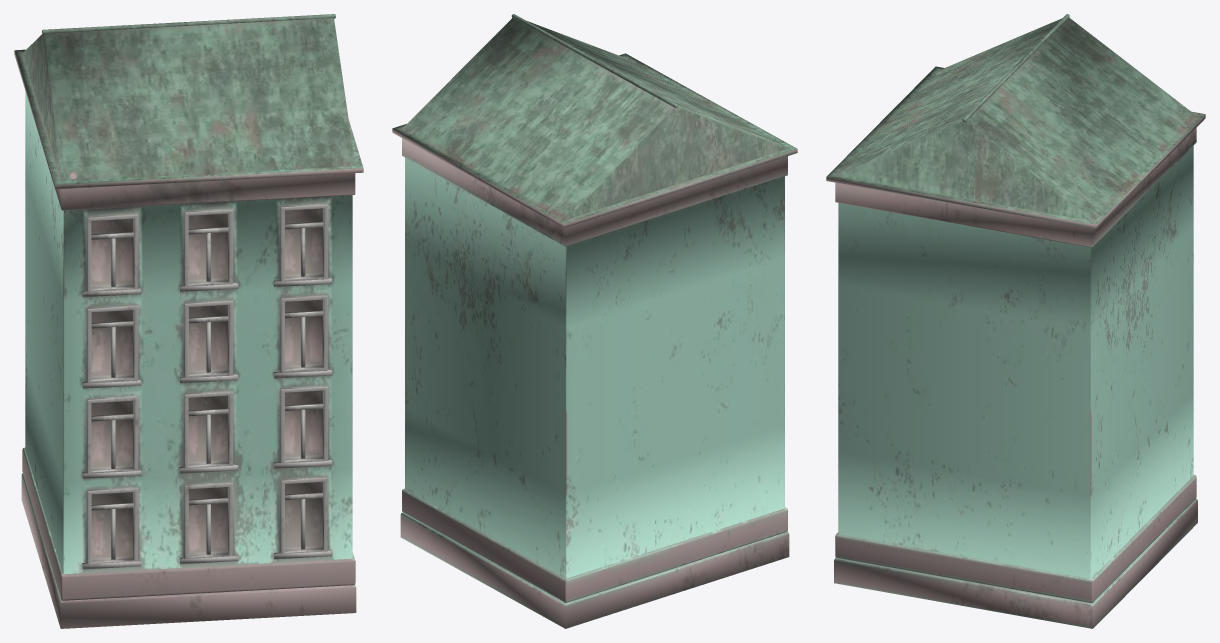
Rendered from townhouse.glb.
3 renders of one model, left to right at view 1: azimuth 30°, elevation 25°; view 2: azimuth 150°, elevation 25°; view 3: azimuth 270°, elevation 25°, orthographic. The views are drawn at different scales.
Parts seen in each view (by area): view 1: TownHouse_A_TownHouse_A_0; view 2: TownHouse_A_TownHouse_A_0; view 3: TownHouse_A_TownHouse_A_0.
Part boxes in pixels (x1,y1,x2,y2): TownHouse_A_TownHouse_A_0: (14, 14, 363, 628); TownHouse_A_TownHouse_A_0: (392, 14, 797, 628); TownHouse_A_TownHouse_A_0: (826, 14, 1205, 628).
Bounding box in the file's own units: 19734 × 28308 × 19997.
Materials: 1 (1 with a texture image).
